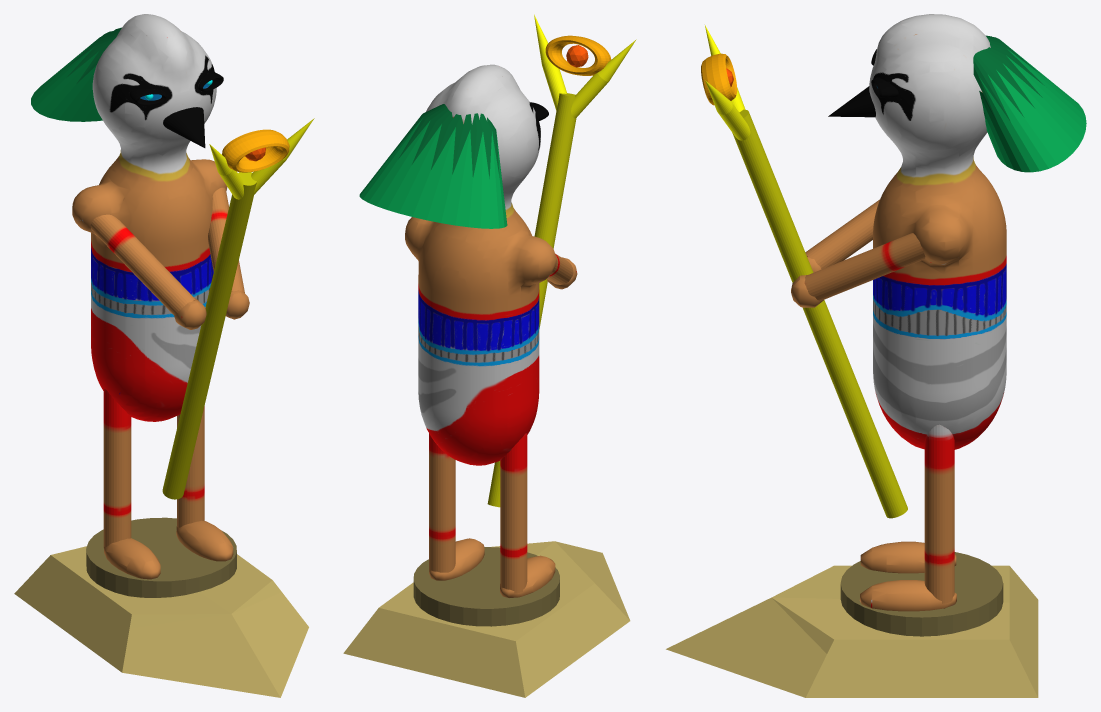
The picture shows the model from 3 angles, left to right: view 1: azimuth 30°, elevation 25°; view 2: azimuth 150°, elevation 25°; view 3: azimuth 270°, elevation 25°; orthographic projection. The views are drawn at different scales.
Parts seen in each view (by area): view 1: Mball.000, Kubus, Cylinder.005, Cylinder, Cylinder.001, Kegel.001, Cylinder.003, Torus.004, Cylinder.002, Cylinder.004, Kegel, Cylinder.006 (+1 smaller); view 2: Mball.000, Kubus, Kegel.001, Cylinder, Cylinder.001, Cylinder.005, Cylinder.002, Torus.004, Cylinder.006, Cylinder.007, Cylinder.003; view 3: Mball.000, Kubus, Kegel.001, Cylinder.005, Cylinder, Cylinder.002, Cylinder.004, Cylinder.003, Torus.004, Cylinder.007, Kegel.
Part boxes in pixels (x1,y1,x2,y2): Mball.000: [72, 14, 249, 579]; Kubus: [14, 546, 308, 697]; Cylinder.005: [162, 172, 257, 499]; Cylinder: [86, 517, 236, 597]; Cylinder.001: [103, 389, 131, 547]; Kegel.001: [31, 27, 121, 121]; Cylinder.003: [90, 214, 194, 314]; Torus.004: [222, 129, 289, 172]; Cylinder.002: [177, 406, 204, 527]; Cylinder.004: [208, 187, 244, 292]; Kegel: [163, 107, 205, 147]; Cylinder.006: [209, 144, 243, 199]; Mball.000: [405, 64, 577, 597]; Kubus: [343, 541, 630, 697]; Kegel.001: [359, 104, 507, 228]; Cylinder: [413, 547, 559, 626]; Cylinder.001: [500, 433, 527, 593]; Cylinder.005: [487, 93, 576, 507]; Cylinder.002: [429, 433, 455, 572]; Torus.004: [545, 35, 611, 75]; Cylinder.006: [571, 39, 636, 118]; Cylinder.007: [534, 14, 567, 110]; Cylinder.003: [547, 254, 573, 284]; Mball.000: [791, 14, 1006, 611]; Kubus: [666, 565, 1038, 697]; Kegel.001: [973, 35, 1086, 172]; Cylinder.005: [732, 109, 907, 518]; Cylinder: [840, 552, 1003, 636]; Cylinder.002: [924, 424, 954, 603]; Cylinder.004: [804, 233, 925, 300]; Cylinder.003: [805, 199, 879, 269]; Torus.004: [701, 53, 737, 105]; Cylinder.007: [705, 80, 750, 140]; Kegel: [828, 86, 875, 117].
Bounding box in the file's own units: 400 × 1199 × 724.
14 materials, 3 textured.
